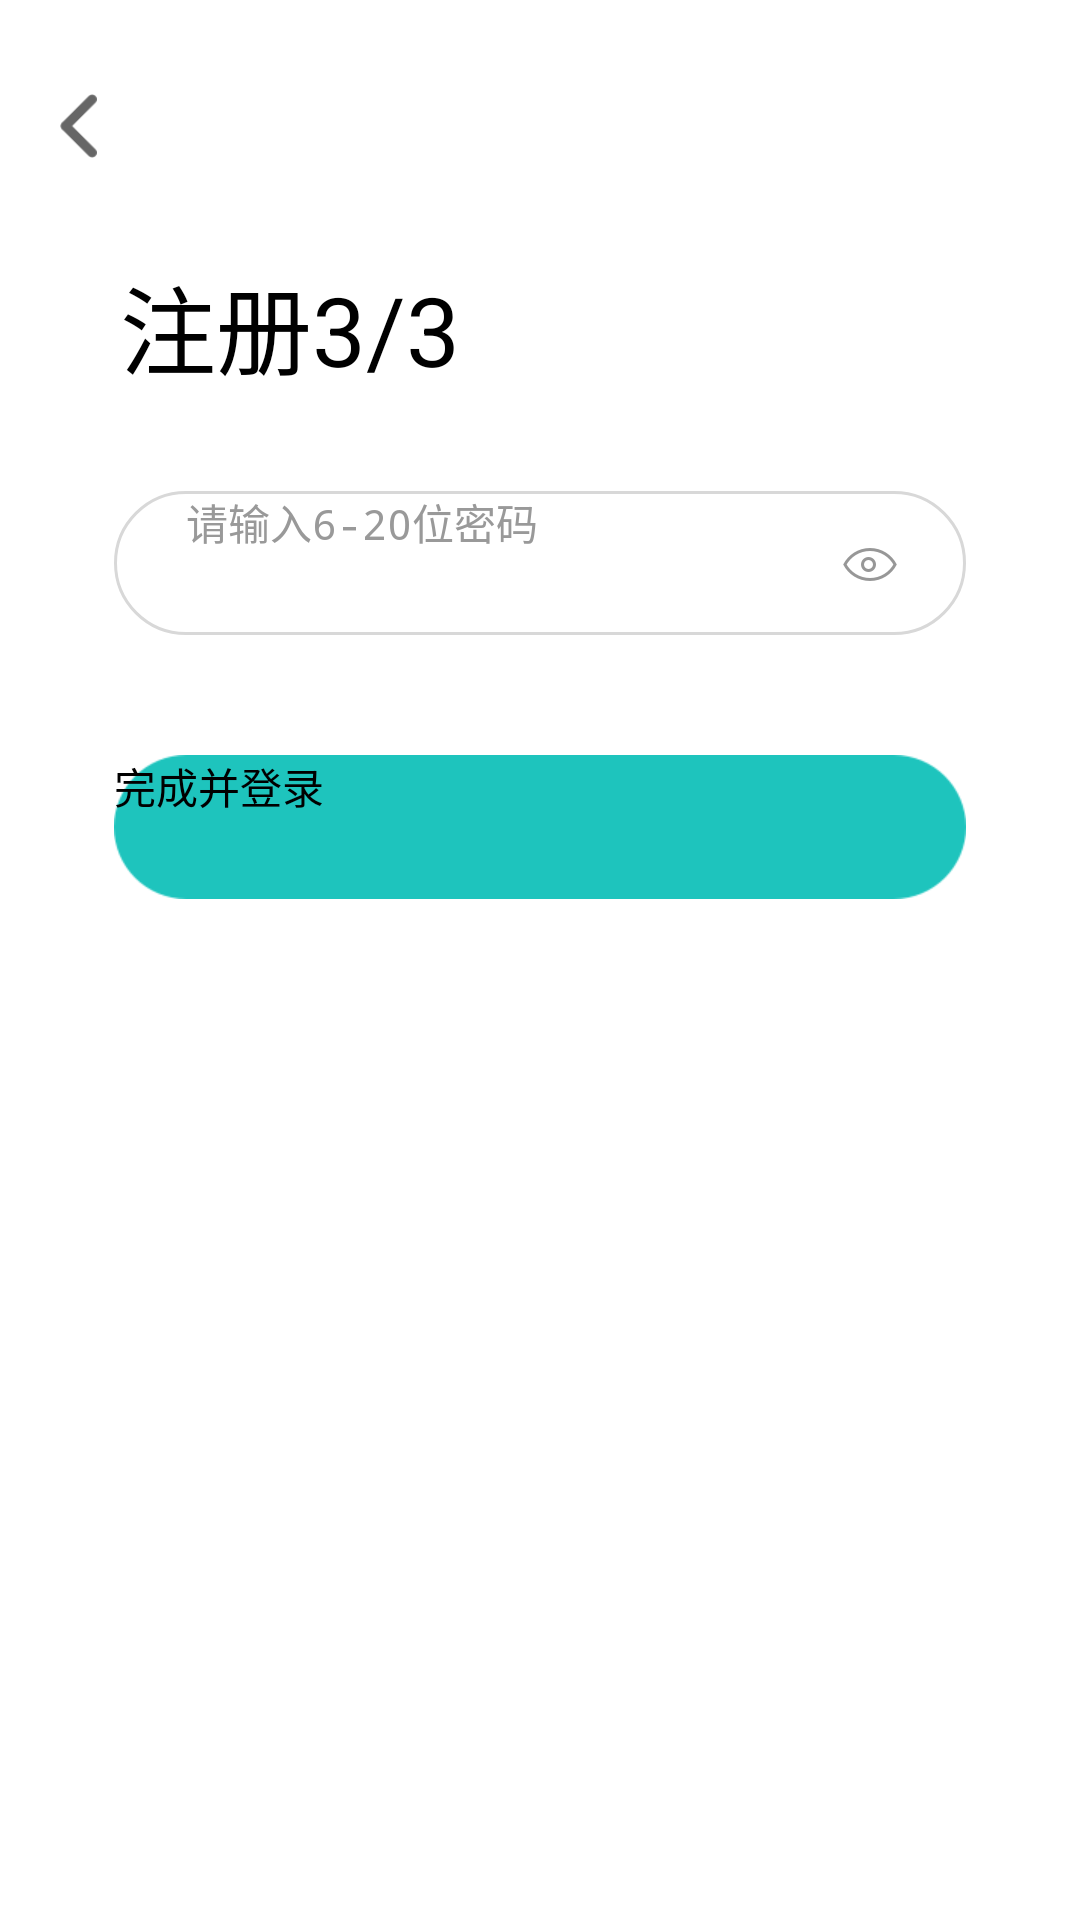

Icon click points for this 1080 x 1920 phone screenshot, format point (x, y):
back register: point (78, 126)
